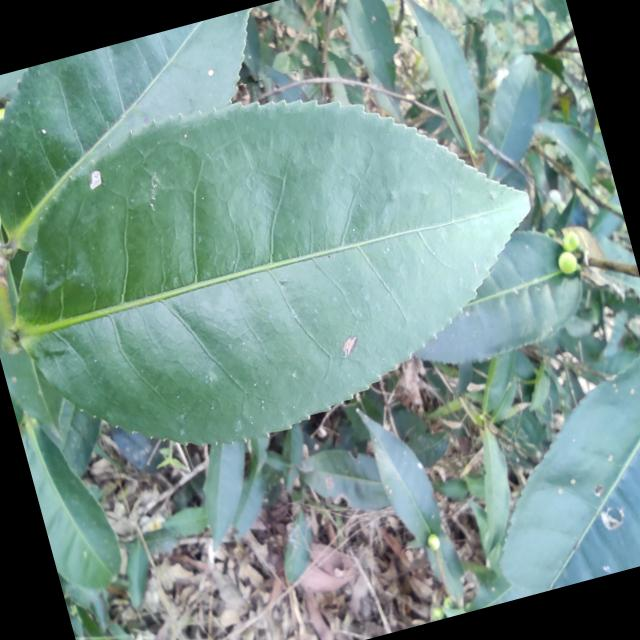Category D(7+ days, Not for Tea): (0, 17, 586, 520)
